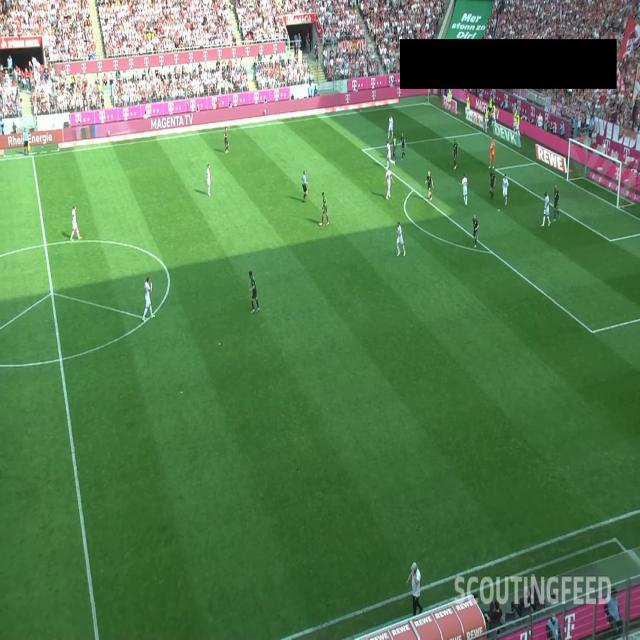ball: (490, 145, 492, 150)
